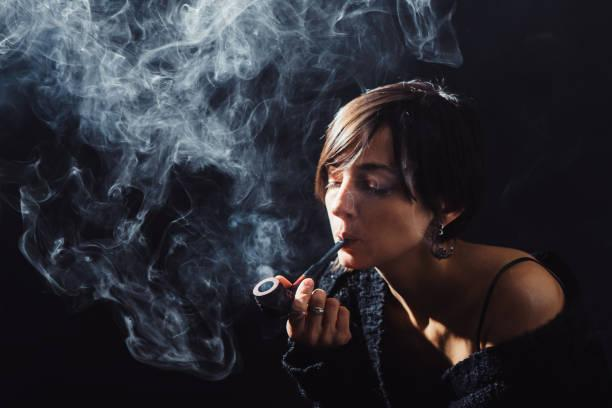trubka: (252, 239, 349, 318)
